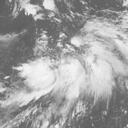cyclone: (18, 42, 113, 101)
